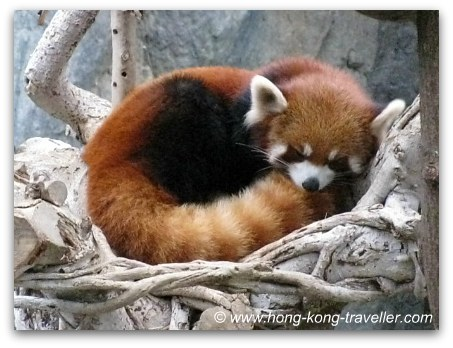red_panda: (86, 58, 380, 262)
